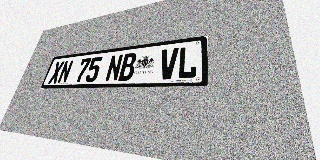5: (85, 56, 103, 82)
7: (74, 58, 92, 83)
B: (118, 52, 137, 81)
L: (177, 45, 198, 79)
N: (105, 54, 124, 82), (57, 60, 74, 83)
V: (158, 47, 179, 80)
X: (48, 61, 65, 84)
